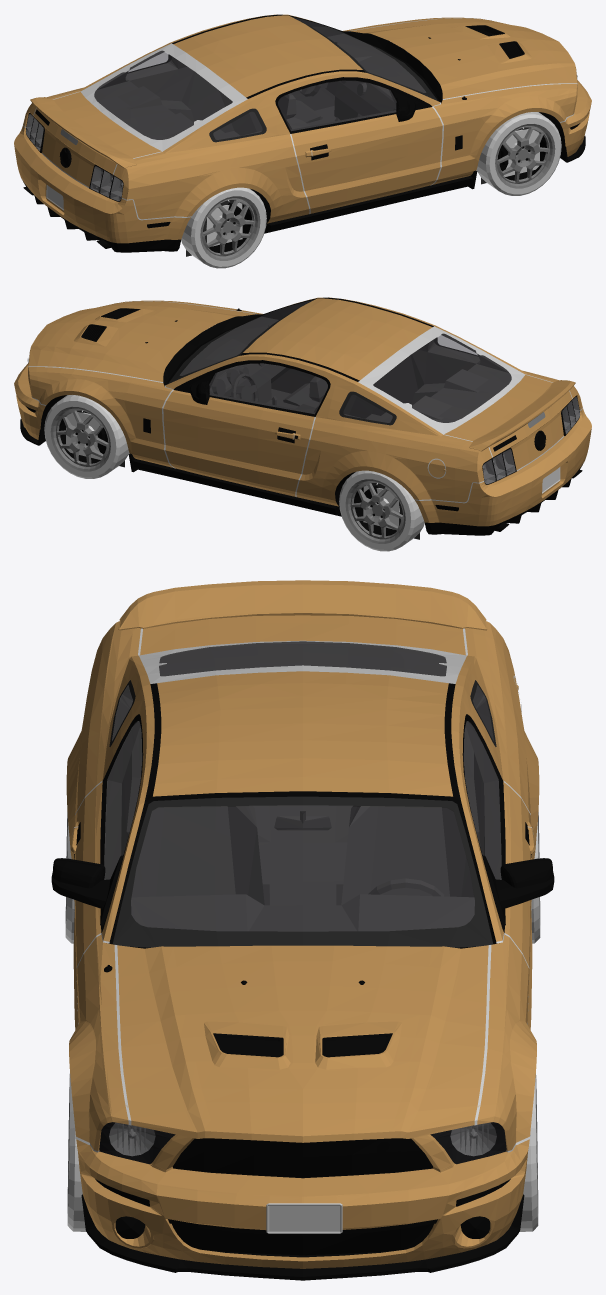
Rendered from mustang.obj.
3 views of the same model, one above another, from view 1: azimuth 30°, elevation 25°; view 2: azimuth 150°, elevation 25°; view 3: azimuth 270°, elevation 25° (orthographic). The views are drawn at different scales.
Parts seen in each view (by area): view 1: Body_Body_paint, Interior_Interior, WindFR_Material_#616, Roof_Body_paint, DoorR_Body_paint, Hood_Carbo_Body_paint, BumperR_Body_paint, Base_Body_paint, WindR_Material_#599, TireRR_Material_#595, TireFR_Tire, TireFR_Material_#595 (+21 smaller); view 2: Body_Body_paint, Interior_Interior, WindFR_Material_#616, Roof_Body_paint, DoorL_Body_paint, Hood_Carbo_Body_paint, BumperR_Body_paint, Base_Body_paint, WindR_Material_#599, TireRL_Material_#595, TireFL_Tire, TireFL_Material_#595 (+21 smaller); view 3: Hood_Carbo_Body_paint, Interior_Interior, WindFR_Material_#616, Roof_Body_paint, BumperF_Body_paint, Body_Body_paint, BumperF_Badging_Chrom, Spoiler_Body_paint, WindF_Material_#597, Base_Body_paint, BumperF_Misc_Chrome2, Roof_Misc6 (+18 smaller).
Boxes of the visible parts, box(x1,y1,x2,y2) form: Body_Body_paint: box(23, 17, 577, 219); Interior_Interior: box(94, 17, 426, 139); WindFR_Material_#616: box(94, 19, 425, 139); Roof_Body_paint: box(79, 14, 440, 152); DoorR_Body_paint: box(291, 107, 442, 213); Hood_Carbo_Body_paint: box(351, 18, 577, 98); BumperR_Body_paint: box(14, 125, 190, 243); Base_Body_paint: box(33, 92, 161, 186); WindR_Material_#599: box(80, 43, 247, 151); TireRR_Material_#595: box(200, 196, 260, 260); TireFR_Tire: box(476, 112, 561, 195); TireFR_Material_#595: box(495, 124, 555, 188); Body_Body_paint: box(28, 300, 582, 502); Interior_Interior: box(179, 300, 511, 422); WindFR_Material_#616: box(180, 302, 511, 422); Roof_Body_paint: box(165, 297, 526, 435); DoorL_Body_paint: box(163, 390, 314, 496); Hood_Carbo_Body_paint: box(28, 301, 254, 381); BumperR_Body_paint: box(415, 408, 591, 526); Base_Body_paint: box(444, 375, 572, 469); WindR_Material_#599: box(358, 326, 525, 434); TireRL_Material_#595: box(345, 479, 405, 543); TireFL_Tire: box(44, 395, 129, 478); TireFL_Material_#595: box(50, 406, 110, 471); Hood_Carbo_Body_paint: box(117, 945, 488, 1142); Interior_Interior: box(104, 641, 501, 931); WindFR_Material_#616: box(104, 642, 501, 931); Roof_Body_paint: box(101, 655, 504, 941); BumperF_Body_paint: box(76, 1134, 529, 1268); Body_Body_paint: box(66, 621, 539, 1151); BumperF_Badging_Chrom: box(172, 1138, 433, 1255); Spoiler_Body_paint: box(118, 580, 487, 630); WindF_Material_#597: box(113, 796, 492, 947); Base_Body_paint: box(140, 615, 465, 655); BumperF_Misc_Chrome2: box(81, 1179, 524, 1280); Roof_Misc6: box(109, 683, 496, 944).
Size of what is drawn, in the model's own units: 8.33 by 2.37 by 3.5.
